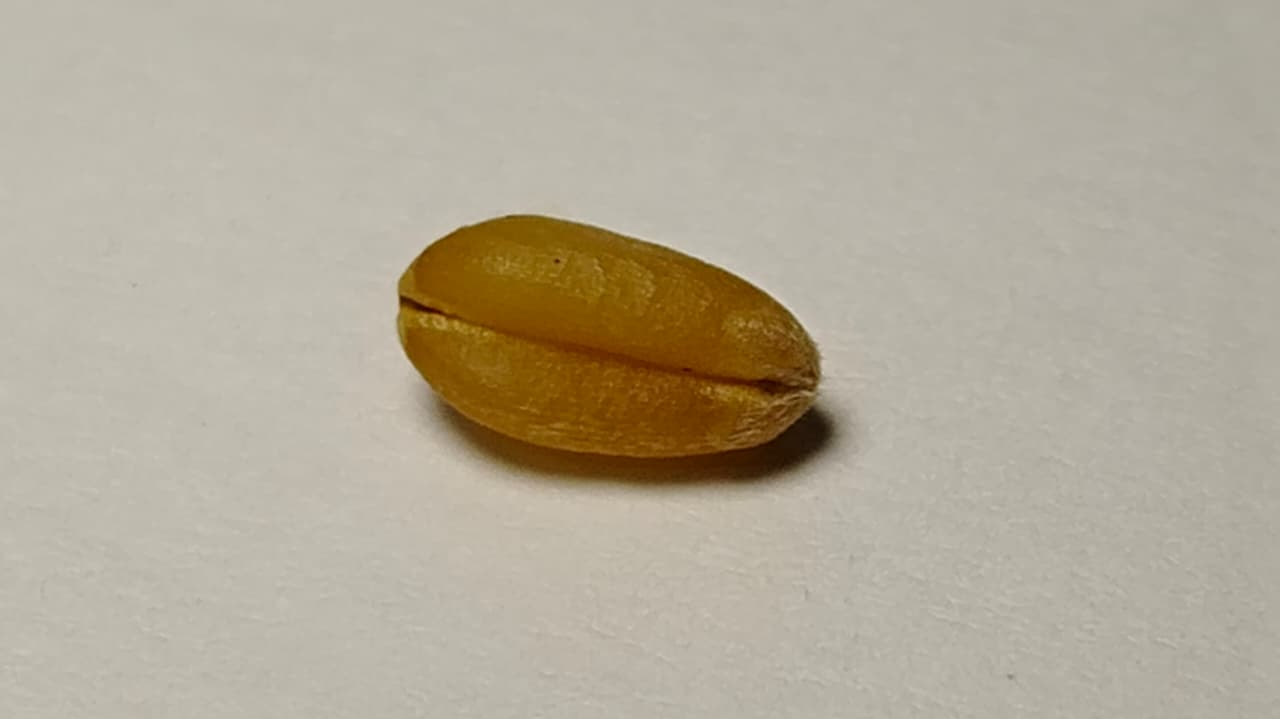healthy: (399, 214, 819, 457)
